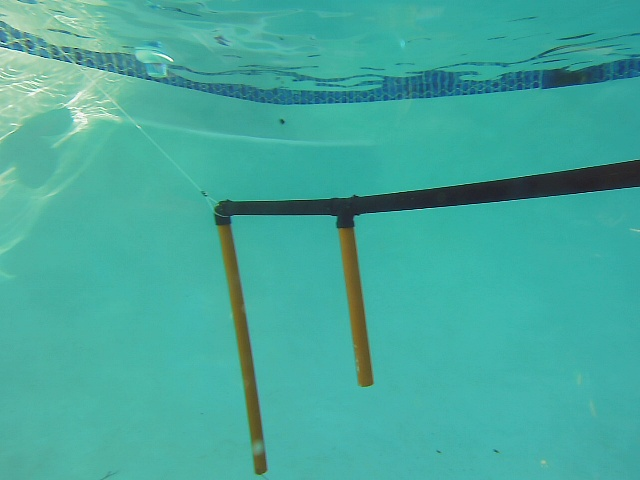Gate: (214, 217, 269, 477), (335, 221, 378, 389)
